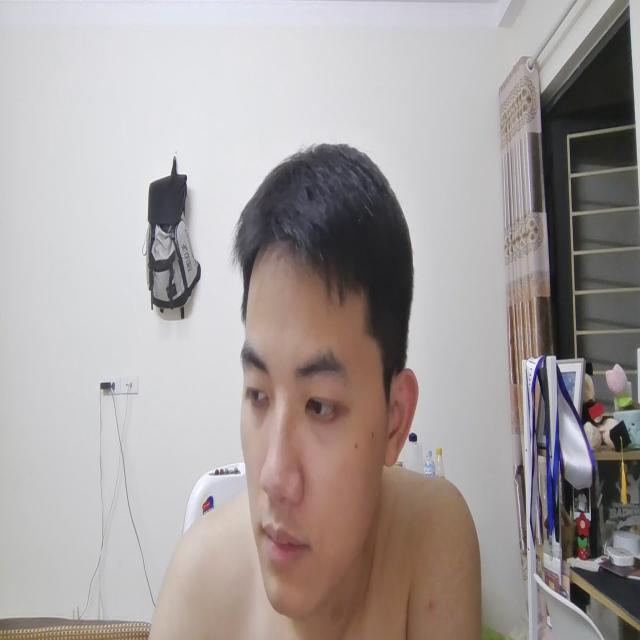student: (230, 133, 416, 640)
